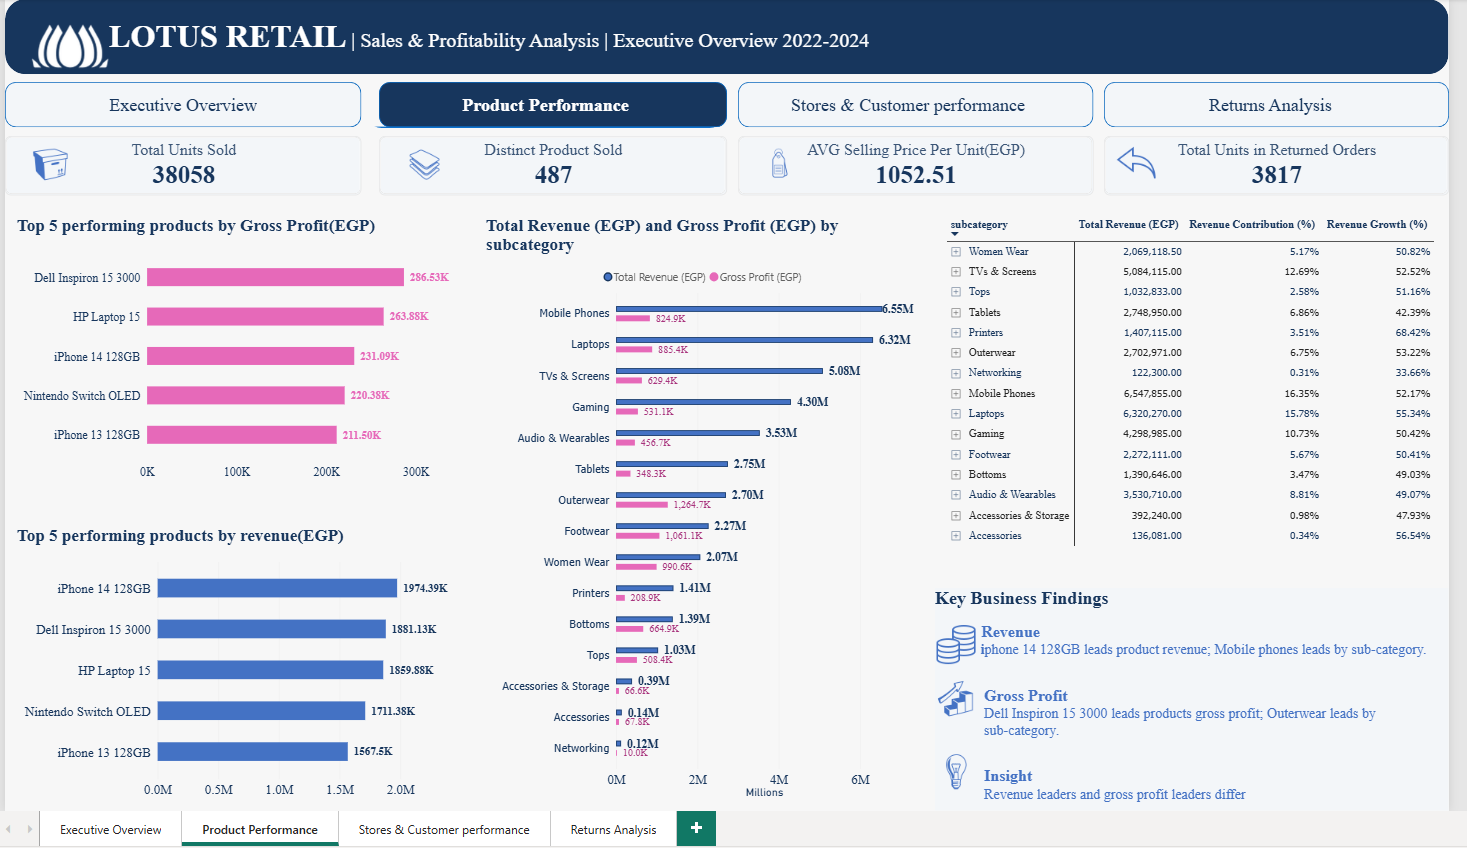

This screenshot's page, from the dashboard's own definition file:
{"tool":"powerbi","page":{"name":"Product Performance","canvas":[1920,1080],"ordinal":1},"visuals":[{"type":"shape","box":[0,0,1920,100],"z":0},{"type":"image","box":[9.8,0,156.4,125.7],"z":1000},{"type":"textbox","box":[138.4,24.7,1227.4,86.3],"z":2000},{"type":"shape","box":[0,111,474,60.3],"z":3000},{"type":"shape","box":[497.3,111,463,60.3],"z":4000},{"type":"shape","box":[975.3,111,472.6,60.3],"z":5000},{"type":"shape","box":[1461.6,111,458.9,60.3],"z":6000},{"type":"cardVisual","fields":{"Data":["Measures (2).Total Units Sold"]},"box":[0,182.9,474.3,78.6],"z":11000},{"type":"image","box":[31.5,193.2,56,52],"z":12000},{"type":"cardVisual","fields":{"Data":["Measures (2).Distinct Product Sold"]},"box":[497.1,182.9,462.9,78.6],"z":13000},{"type":"image","box":[527.4,193.2,56,52],"z":14000},{"type":"cardVisual","fields":{"Data":["Measures (2).AVG Selling Price Per Unit(EGP)"]},"box":[974.3,182.9,472.9,78.6],"z":15000},{"type":"image","box":[1001.4,193.2,56,52],"z":16000},{"type":"cardVisual","fields":{"Data":["Measures (2).Total Units in Returned Orders"]},"box":[1461.4,182.9,458.6,78.6],"z":17000},{"type":"clusteredBarChart","fields":{"Category":["Products.subcategory"],"Y":["Measures (2).Total Revenue (EGP)","Measures (2).Gross Profit (EGP)"]},"box":[624.2,273.7,613,805.7],"z":18000},{"type":"image","box":[1475.7,192.9,56,52],"z":22000},{"type":"clusteredBarChart","title":"Top 5 performing products by Gross Profit","fields":{"Category":["Products.product_name"],"Y":["Measures (2).Gross Profit (EGP)"]},"box":[0,273.6,624.5,381.8],"z":23000},{"type":"clusteredBarChart","title":"Top 5 performing products by revenue","fields":{"Category":["Products.product_name"],"Y":["Measures (2).Total Revenue (EGP)"]},"box":[0,686.4,624.5,394.2],"z":24000},{"type":"pivotTable","fields":{"Rows":["Products.subcategory","dim_date.Year"],"Values":["Measures (2).Total Revenue (EGP)","Measures (2).Revenue Contribution (%)","Measures (2).Revenue Growth (%)"]},"box":[1237.2,273.7,682.8,498.5],"z":25000},{"type":"textbox","box":[1237.2,783.4,682.8,296],"z":26000},{"type":"image","box":[1237.2,832.2,56,52],"z":27000},{"type":"image","box":[1237.2,904.8,55.7,51.4],"z":28000},{"type":"image","box":[1237.2,1001.2,56,52],"z":29000},{"type":"pageNavigator","box":[0,111.6,1920,60.4],"z":29001}]}

Visuals, with their boxes on the page's 1920x1080 design canvas (x1, y1, x2, y2). These are canvas units, not pixel positions in the 1467x848 screenshot, which may show the page scaled, cropped or inside an application window:
shape: [x1=0, y1=0, x2=1920, y2=100]
image: [x1=10, y1=0, x2=166, y2=126]
textbox: [x1=138, y1=25, x2=1366, y2=111]
shape: [x1=0, y1=111, x2=474, y2=171]
shape: [x1=497, y1=111, x2=960, y2=171]
shape: [x1=975, y1=111, x2=1448, y2=171]
shape: [x1=1462, y1=111, x2=1920, y2=171]
cardVisual - Measures (2).Total Units Sold: [x1=0, y1=183, x2=474, y2=262]
image: [x1=32, y1=193, x2=88, y2=245]
cardVisual - Measures (2).Distinct Product Sold: [x1=497, y1=183, x2=960, y2=262]
image: [x1=527, y1=193, x2=583, y2=245]
cardVisual - Measures (2).AVG Selling Price Per Unit(EGP): [x1=974, y1=183, x2=1447, y2=262]
image: [x1=1001, y1=193, x2=1057, y2=245]
cardVisual - Measures (2).Total Units in Returned Orders: [x1=1461, y1=183, x2=1920, y2=262]
clusteredBarChart - Products.subcategory x Measures (2).Total Revenue (EGP): [x1=624, y1=274, x2=1237, y2=1079]
image: [x1=1476, y1=193, x2=1532, y2=245]
"Top 5 performing products by Gross Profit" clusteredBarChart: [x1=0, y1=274, x2=624, y2=655]
"Top 5 performing products by revenue" clusteredBarChart: [x1=0, y1=686, x2=624, y2=1081]
pivotTable - Products.subcategory x dim_date.Year: [x1=1237, y1=274, x2=1920, y2=772]
textbox: [x1=1237, y1=783, x2=1920, y2=1079]
image: [x1=1237, y1=832, x2=1293, y2=884]
image: [x1=1237, y1=905, x2=1293, y2=956]
image: [x1=1237, y1=1001, x2=1293, y2=1053]
pageNavigator: [x1=0, y1=112, x2=1920, y2=172]
